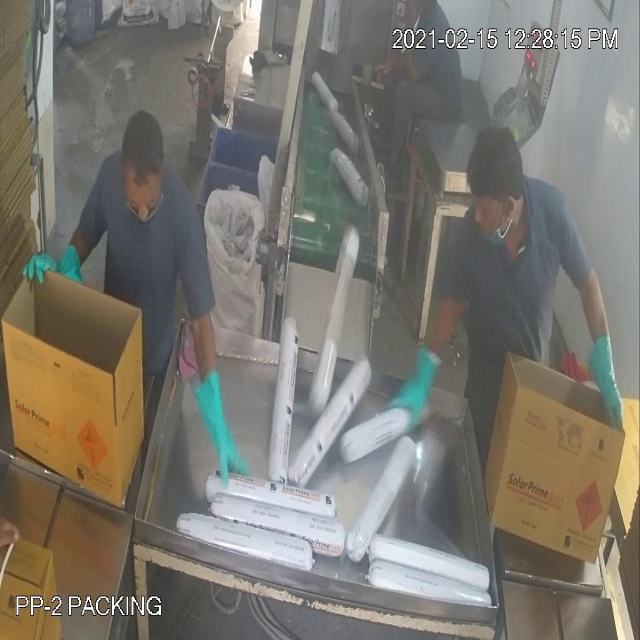Guantes: (189, 355, 250, 510), (376, 345, 449, 433), (586, 310, 630, 443), (21, 231, 92, 305)
